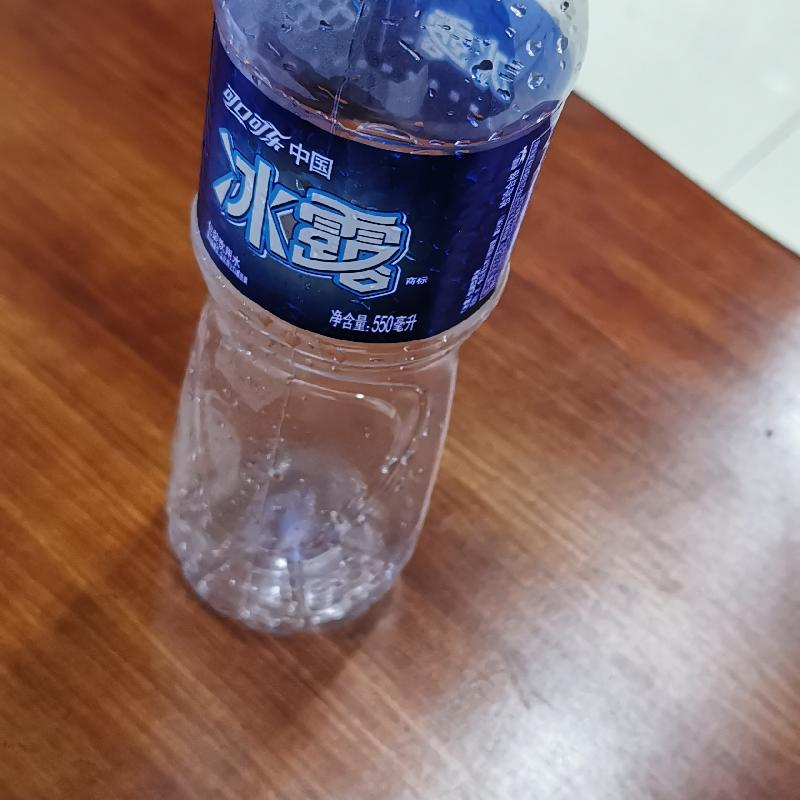bottles: (159, 1, 590, 634)
